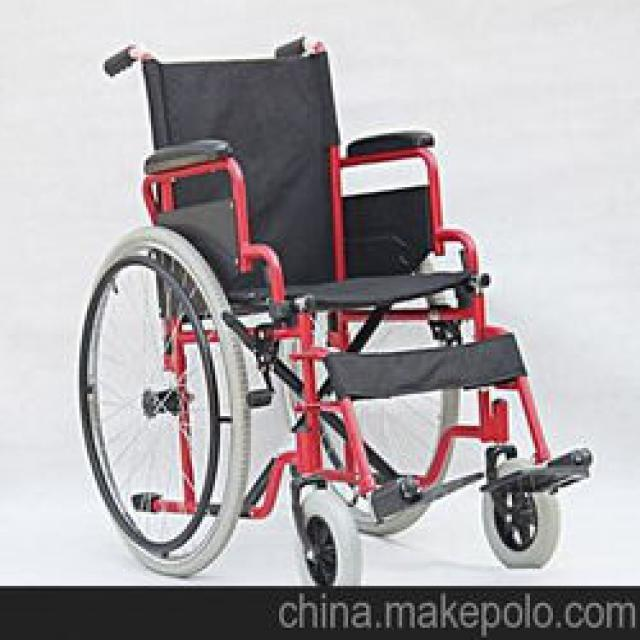wheelchairs: (76, 36, 579, 584)
